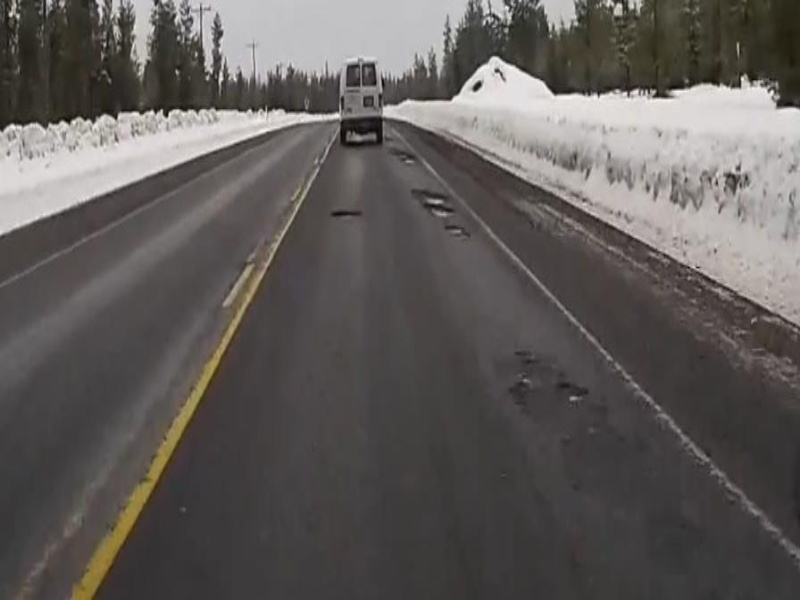pothole: (412, 186, 446, 204), (426, 206, 456, 220)
